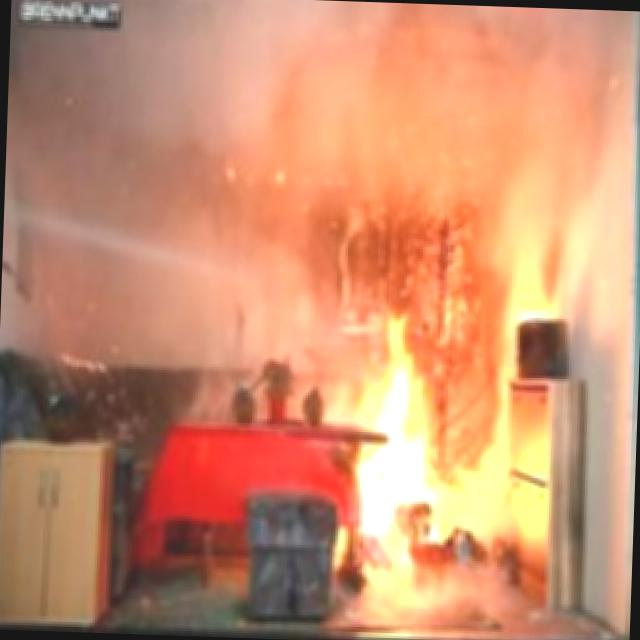fire: (322, 293, 476, 558)
smoke: (109, 5, 378, 274)
